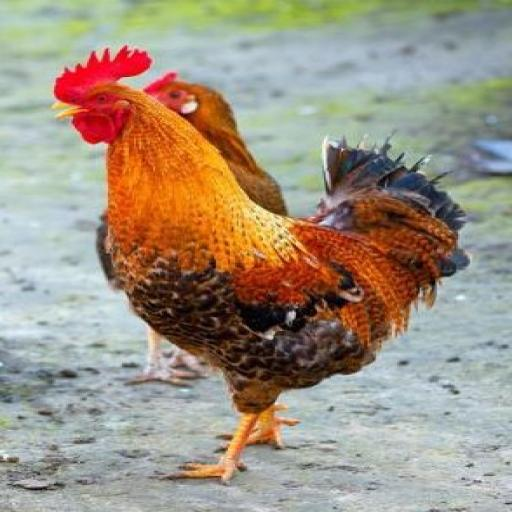healthy: (52, 36, 154, 144)
